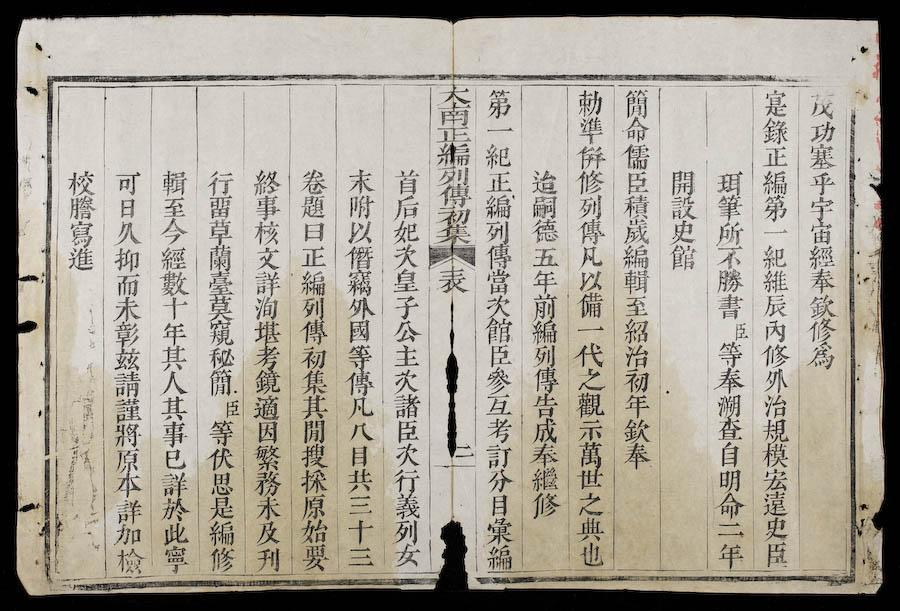c: (436, 265, 470, 294), (484, 87, 514, 119), (434, 142, 472, 167), (573, 340, 606, 368), (298, 543, 331, 571), (64, 167, 97, 195), (435, 184, 473, 208), (622, 87, 651, 118), (158, 167, 189, 196), (760, 88, 791, 117), (529, 491, 561, 519), (714, 541, 746, 569), (806, 91, 838, 119), (113, 547, 146, 574), (435, 83, 473, 106), (434, 104, 472, 127), (667, 167, 697, 196), (667, 243, 698, 271), (345, 166, 376, 194), (205, 168, 236, 196), (160, 545, 191, 573), (251, 167, 282, 195), (806, 341, 837, 369), (574, 391, 606, 418), (112, 497, 144, 524), (619, 244, 652, 270), (110, 371, 143, 397), (110, 397, 143, 423), (206, 369, 236, 397), (621, 142, 651, 170), (529, 167, 559, 195), (575, 88, 605, 116), (252, 443, 282, 471), (482, 142, 513, 169), (621, 442, 652, 469), (621, 218, 652, 245), (206, 519, 237, 546), (111, 321, 142, 348), (714, 492, 745, 519), (759, 168, 790, 195), (714, 293, 745, 320), (806, 143, 837, 170), (484, 544, 515, 571), (575, 116, 606, 143), (529, 218, 561, 244), (574, 169, 606, 195), (390, 393, 422, 419), (298, 468, 330, 494), (529, 466, 561, 492), (206, 546, 238, 572), (298, 518, 330, 544), (204, 295, 236, 321), (392, 167, 421, 195), (345, 517, 375, 544), (298, 167, 328, 194), (760, 195, 790, 222), (483, 367, 513, 394), (484, 517, 514, 544), (483, 194, 514, 220), (575, 219, 606, 245), (483, 318, 514, 344), (714, 367, 745, 393), (575, 144, 606, 170), (111, 296, 142, 322), (760, 118, 791, 144), (391, 492, 422, 518), (391, 542, 422, 568), (204, 321, 236, 346), (759, 442, 791, 467), (157, 271, 189, 296), (111, 422, 143, 447), (433, 224, 473, 244), (158, 497, 190, 522), (762, 540, 790, 568), (484, 243, 513, 270), (298, 269, 327, 296), (530, 293, 559, 320), (576, 292, 605, 319), (207, 418, 236, 445), (205, 244, 234, 271), (344, 270, 374, 296), (621, 318, 651, 344), (252, 368, 282, 394), (530, 417, 560, 443), (252, 270, 282, 296), (159, 471, 189, 497), (714, 194, 744, 220), (760, 490, 790, 516), (112, 220, 142, 246), (204, 218, 234, 244), (483, 442, 513, 468), (253, 546, 283, 572), (158, 344, 188, 370), (434, 207, 473, 227), (158, 395, 188, 421), (158, 218, 188, 244), (112, 169, 142, 195), (344, 245, 375, 270), (252, 471, 283, 496), (251, 220, 282, 245), (111, 247, 142, 272), (344, 370, 375, 395), (620, 269, 651, 294), (204, 271, 235, 296), (806, 293, 837, 318), (66, 195, 97, 220), (65, 246, 96, 271), (576, 491, 605, 517), (392, 195, 421, 221), (530, 392, 559, 418), (760, 243, 789, 269), (345, 343, 374, 369), (159, 420, 188, 446), (253, 520, 282, 546), (252, 394, 281, 420), (391, 467, 421, 492), (529, 320, 559, 345), (345, 194, 375, 219), (714, 268, 744, 293), (206, 446, 236, 471), (621, 417, 651, 442), (621, 194, 651, 219), (714, 221, 744, 246), (391, 368, 421, 393), (206, 495, 236, 520), (575, 517, 605, 542), (66, 220, 96, 245), (806, 244, 836, 269), (112, 447, 142, 472), (344, 467, 374, 492), (113, 472, 143, 497), (621, 117, 651, 142), (759, 343, 790, 367), (667, 196, 698, 220), (759, 418, 790, 442), (529, 443, 560, 467), (806, 119, 837, 143), (483, 170, 514, 194), (111, 347, 142, 371), (806, 318, 837, 342), (390, 518, 421, 542), (345, 545, 376, 569), (806, 171, 837, 195), (531, 366, 559, 392), (484, 269, 512, 295), (576, 441, 604, 467), (392, 294, 420, 320), (716, 340, 744, 366), (299, 319, 328, 344), (345, 220, 374, 245), (298, 194, 327, 219), (391, 269, 420, 294), (391, 244, 420, 269), (299, 394, 328, 419), (760, 393, 789, 418), (252, 195, 281, 220), (299, 443, 328, 468), (530, 268, 559, 293), (761, 368, 790, 393), (252, 246, 281, 271), (299, 494, 328, 519), (159, 320, 188, 345), (112, 272, 141, 297), (714, 169, 743, 194), (392, 442, 421, 467), (577, 542, 606, 567), (484, 468, 513, 493), (806, 219, 835, 244), (484, 416, 513, 441), (434, 167, 472, 186), (252, 320, 282, 344), (390, 221, 420, 245), (529, 195, 559, 219), (158, 246, 188, 270), (391, 343, 421, 367), (158, 371, 188, 395), (253, 496, 283, 520), (806, 268, 836, 292), (760, 467, 790, 491), (806, 196, 836, 220), (345, 395, 375, 419), (575, 368, 606, 391), (205, 346, 236, 369), (158, 296, 189, 319), (112, 524, 144, 546), (761, 293, 789, 318), (714, 393, 743, 417), (622, 344, 651, 368), (575, 195, 604, 219), (760, 269, 789, 293), (622, 393, 651, 417), (251, 296, 280, 320), (668, 220, 697, 244), (715, 416, 744, 440), (761, 516, 790, 540), (298, 245, 328, 268), (530, 245, 560, 268), (392, 320, 422, 343), (160, 522, 190, 545), (252, 345, 282, 368), (760, 145, 790, 168), (300, 370, 328, 394), (622, 369, 650, 393), (206, 195, 234, 219), (622, 170, 650, 194), (299, 346, 328, 369), (484, 295, 513, 318), (575, 467, 604, 490), (575, 419, 605, 441), (714, 246, 744, 268), (717, 441, 742, 467), (300, 419, 327, 443), (208, 471, 235, 495), (577, 245, 604, 269), (393, 418, 420, 442), (483, 220, 511, 243), (299, 220, 327, 243), (485, 344, 513, 367), (160, 196, 188, 219), (160, 447, 188, 470), (433, 127, 473, 143), (345, 297, 374, 319), (484, 394, 513, 416), (621, 295, 650, 317), (345, 494, 375, 515), (346, 319, 372, 343), (254, 419, 280, 443), (346, 443, 372, 467), (761, 319, 788, 342), (716, 468, 743, 491), (299, 296, 327, 318), (530, 345, 558, 367), (346, 420, 374, 442), (714, 520, 746, 539), (577, 269, 604, 291), (486, 493, 511, 516), (115, 196, 139, 219), (483, 123, 516, 139), (574, 323, 607, 337), (760, 225, 790, 240), (221, 398, 240, 417), (453, 441, 473, 459), (731, 321, 749, 340)
